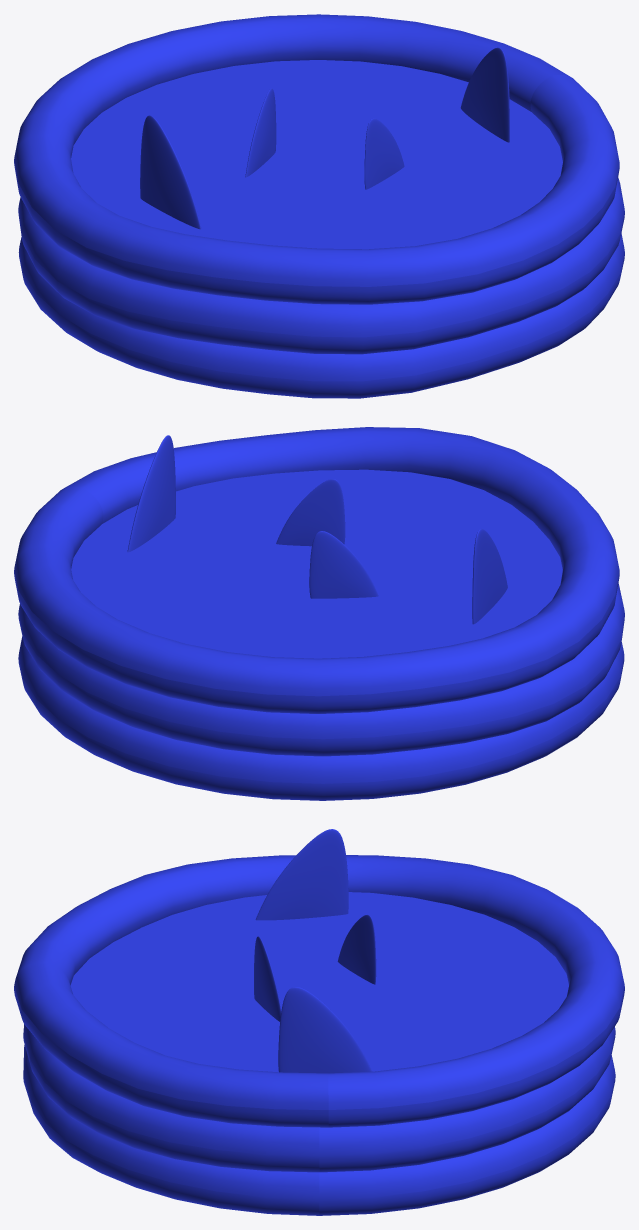
The model's file is pool.fbx.
3 views of the same model, one above another, from view 1: azimuth 30°, elevation 25°; view 2: azimuth 150°, elevation 25°; view 3: azimuth 270°, elevation 25° (orthographic). The views are drawn at different scales.
Visible parts, largest first — view 1: float, water, shark1, shark2; view 2: float, water, shark2, shark1; view 3: float, water, shark1, shark2.
Boxes of the visible parts, left/top/right/bottom form: float: left=14, top=14, right=624, bottom=398; water: left=71, top=60, right=562, bottom=249; shark1: left=140, top=47, right=509, bottom=229; shark2: left=245, top=88, right=404, bottom=189; float: left=14, top=427, right=624, bottom=800; water: left=71, top=469, right=562, bottom=658; shark2: left=276, top=479, right=378, bottom=598; shark1: left=127, top=435, right=507, bottom=624; float: left=14, top=855, right=624, bottom=1215; water: left=70, top=892, right=568, bottom=1072; shark1: left=255, top=829, right=372, bottom=1073; shark2: left=254, top=914, right=376, bottom=1021.
Bounding box in the file's own units: 822 × 292 × 845.
